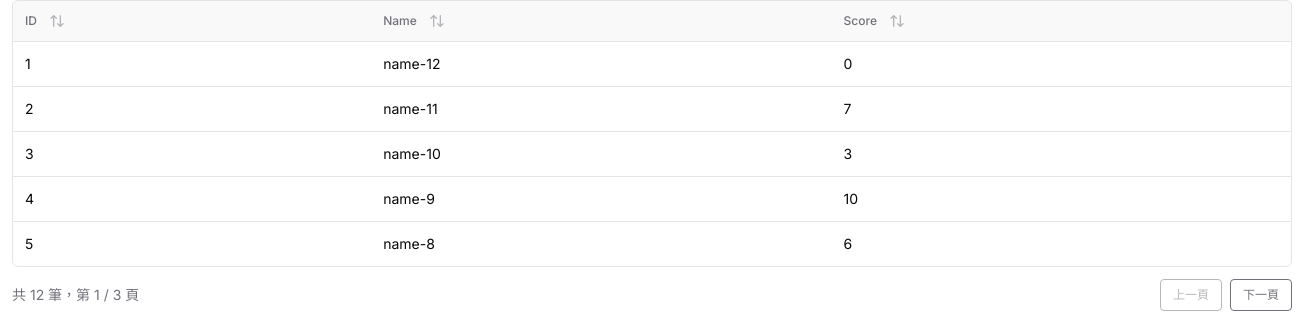
Test: DataTable › paginates results
Step 1. Click the button "下一頁" → (1261, 294), box [1230, 278, 1292, 310]
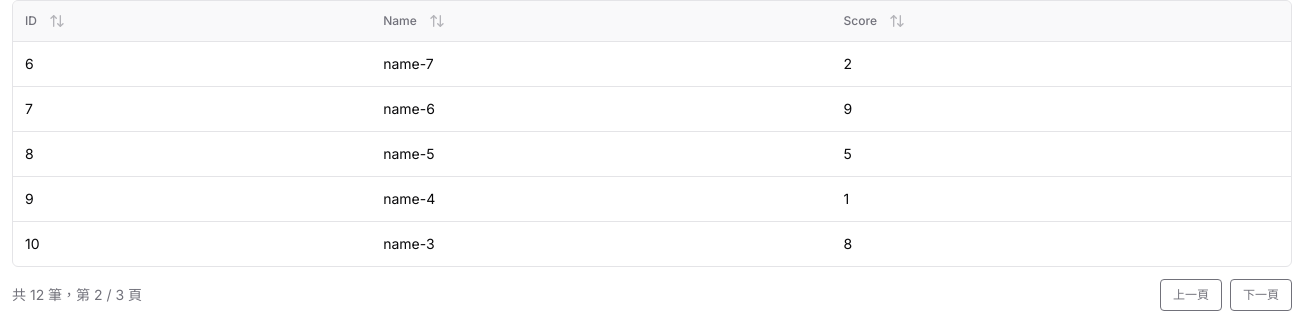
Check: the text "共 12 筆，第 2 / 3 頁" is shown, box [12, 284, 142, 304]
